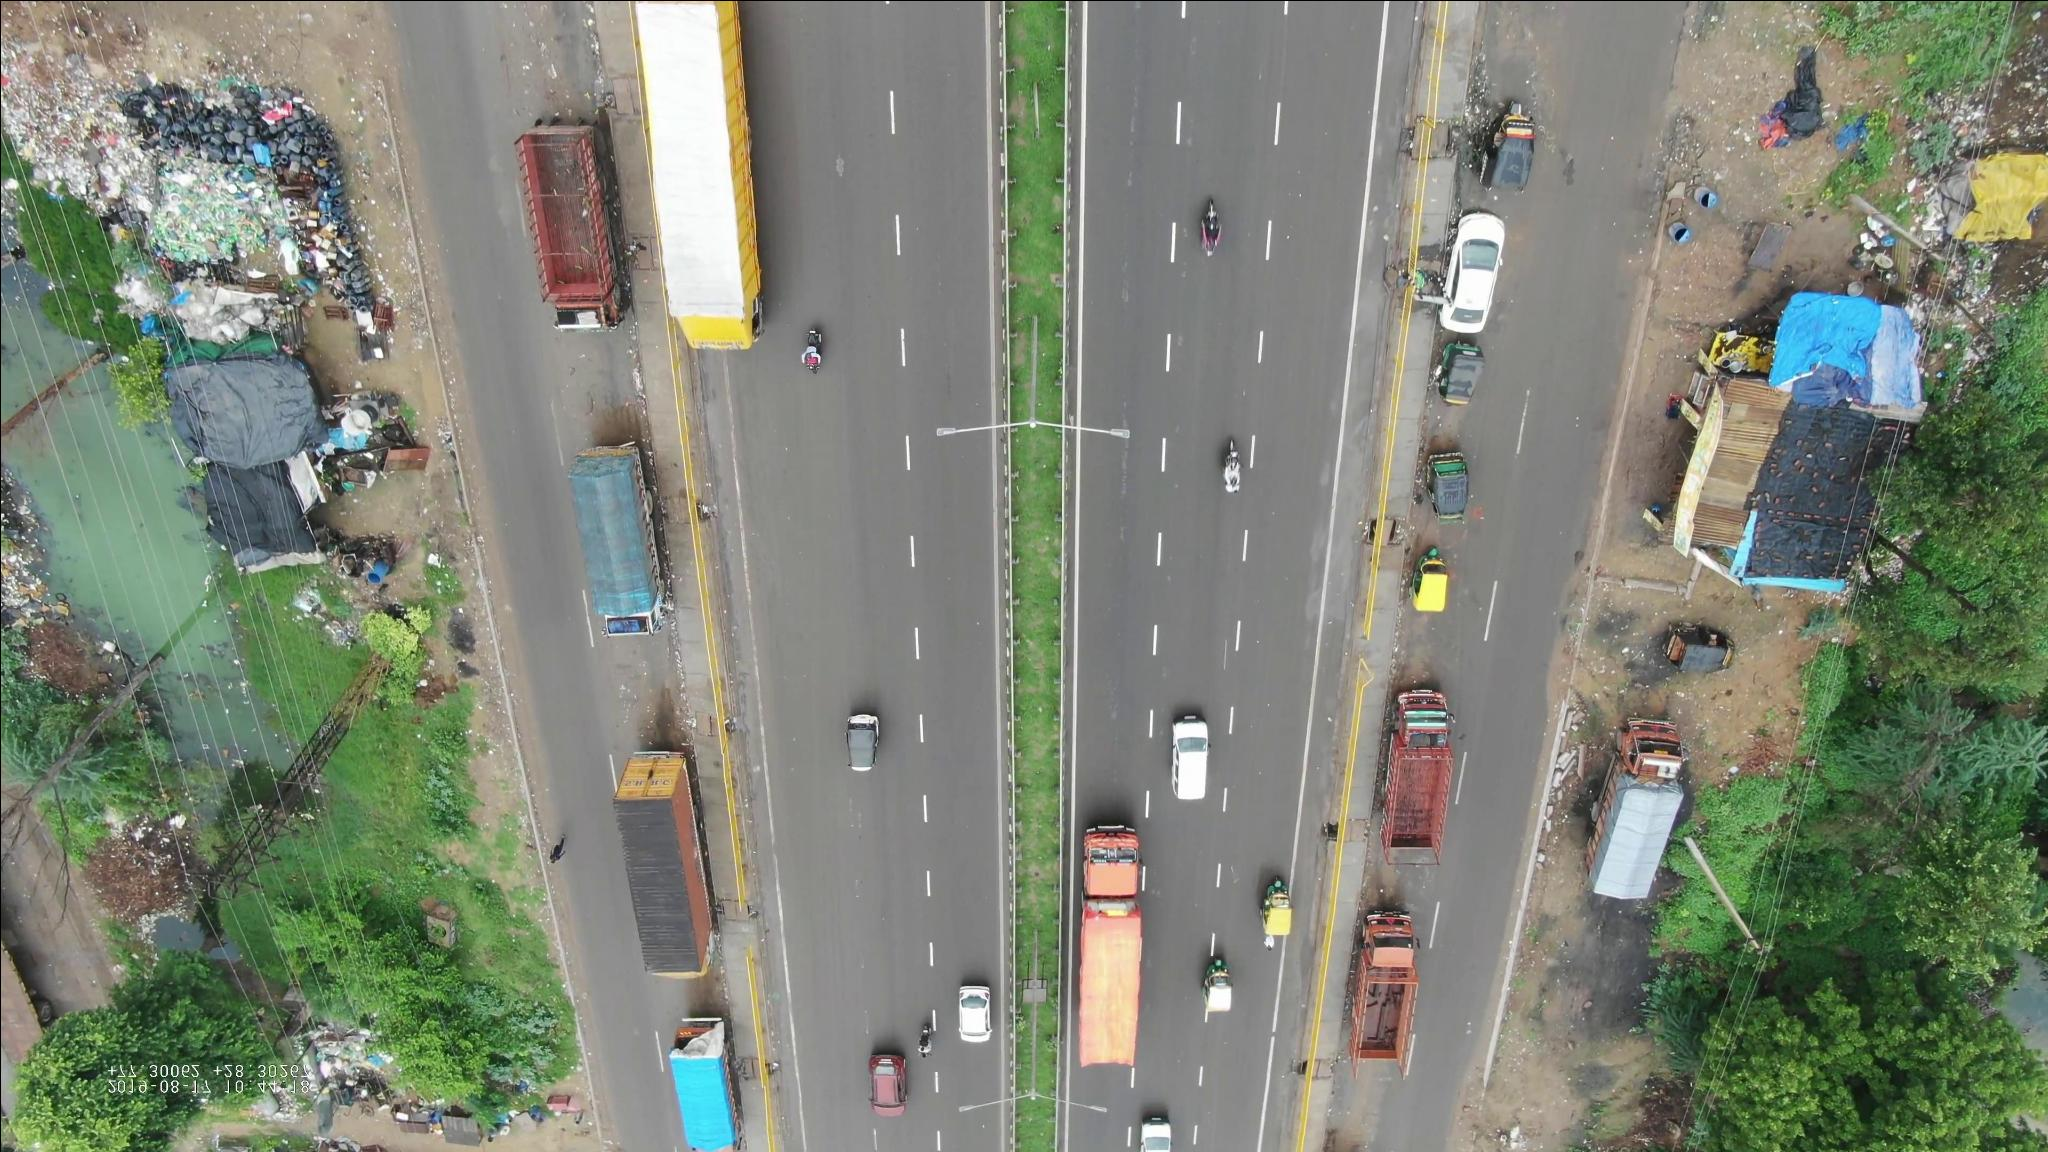Road_side_garbage: (7, 58, 404, 333)
